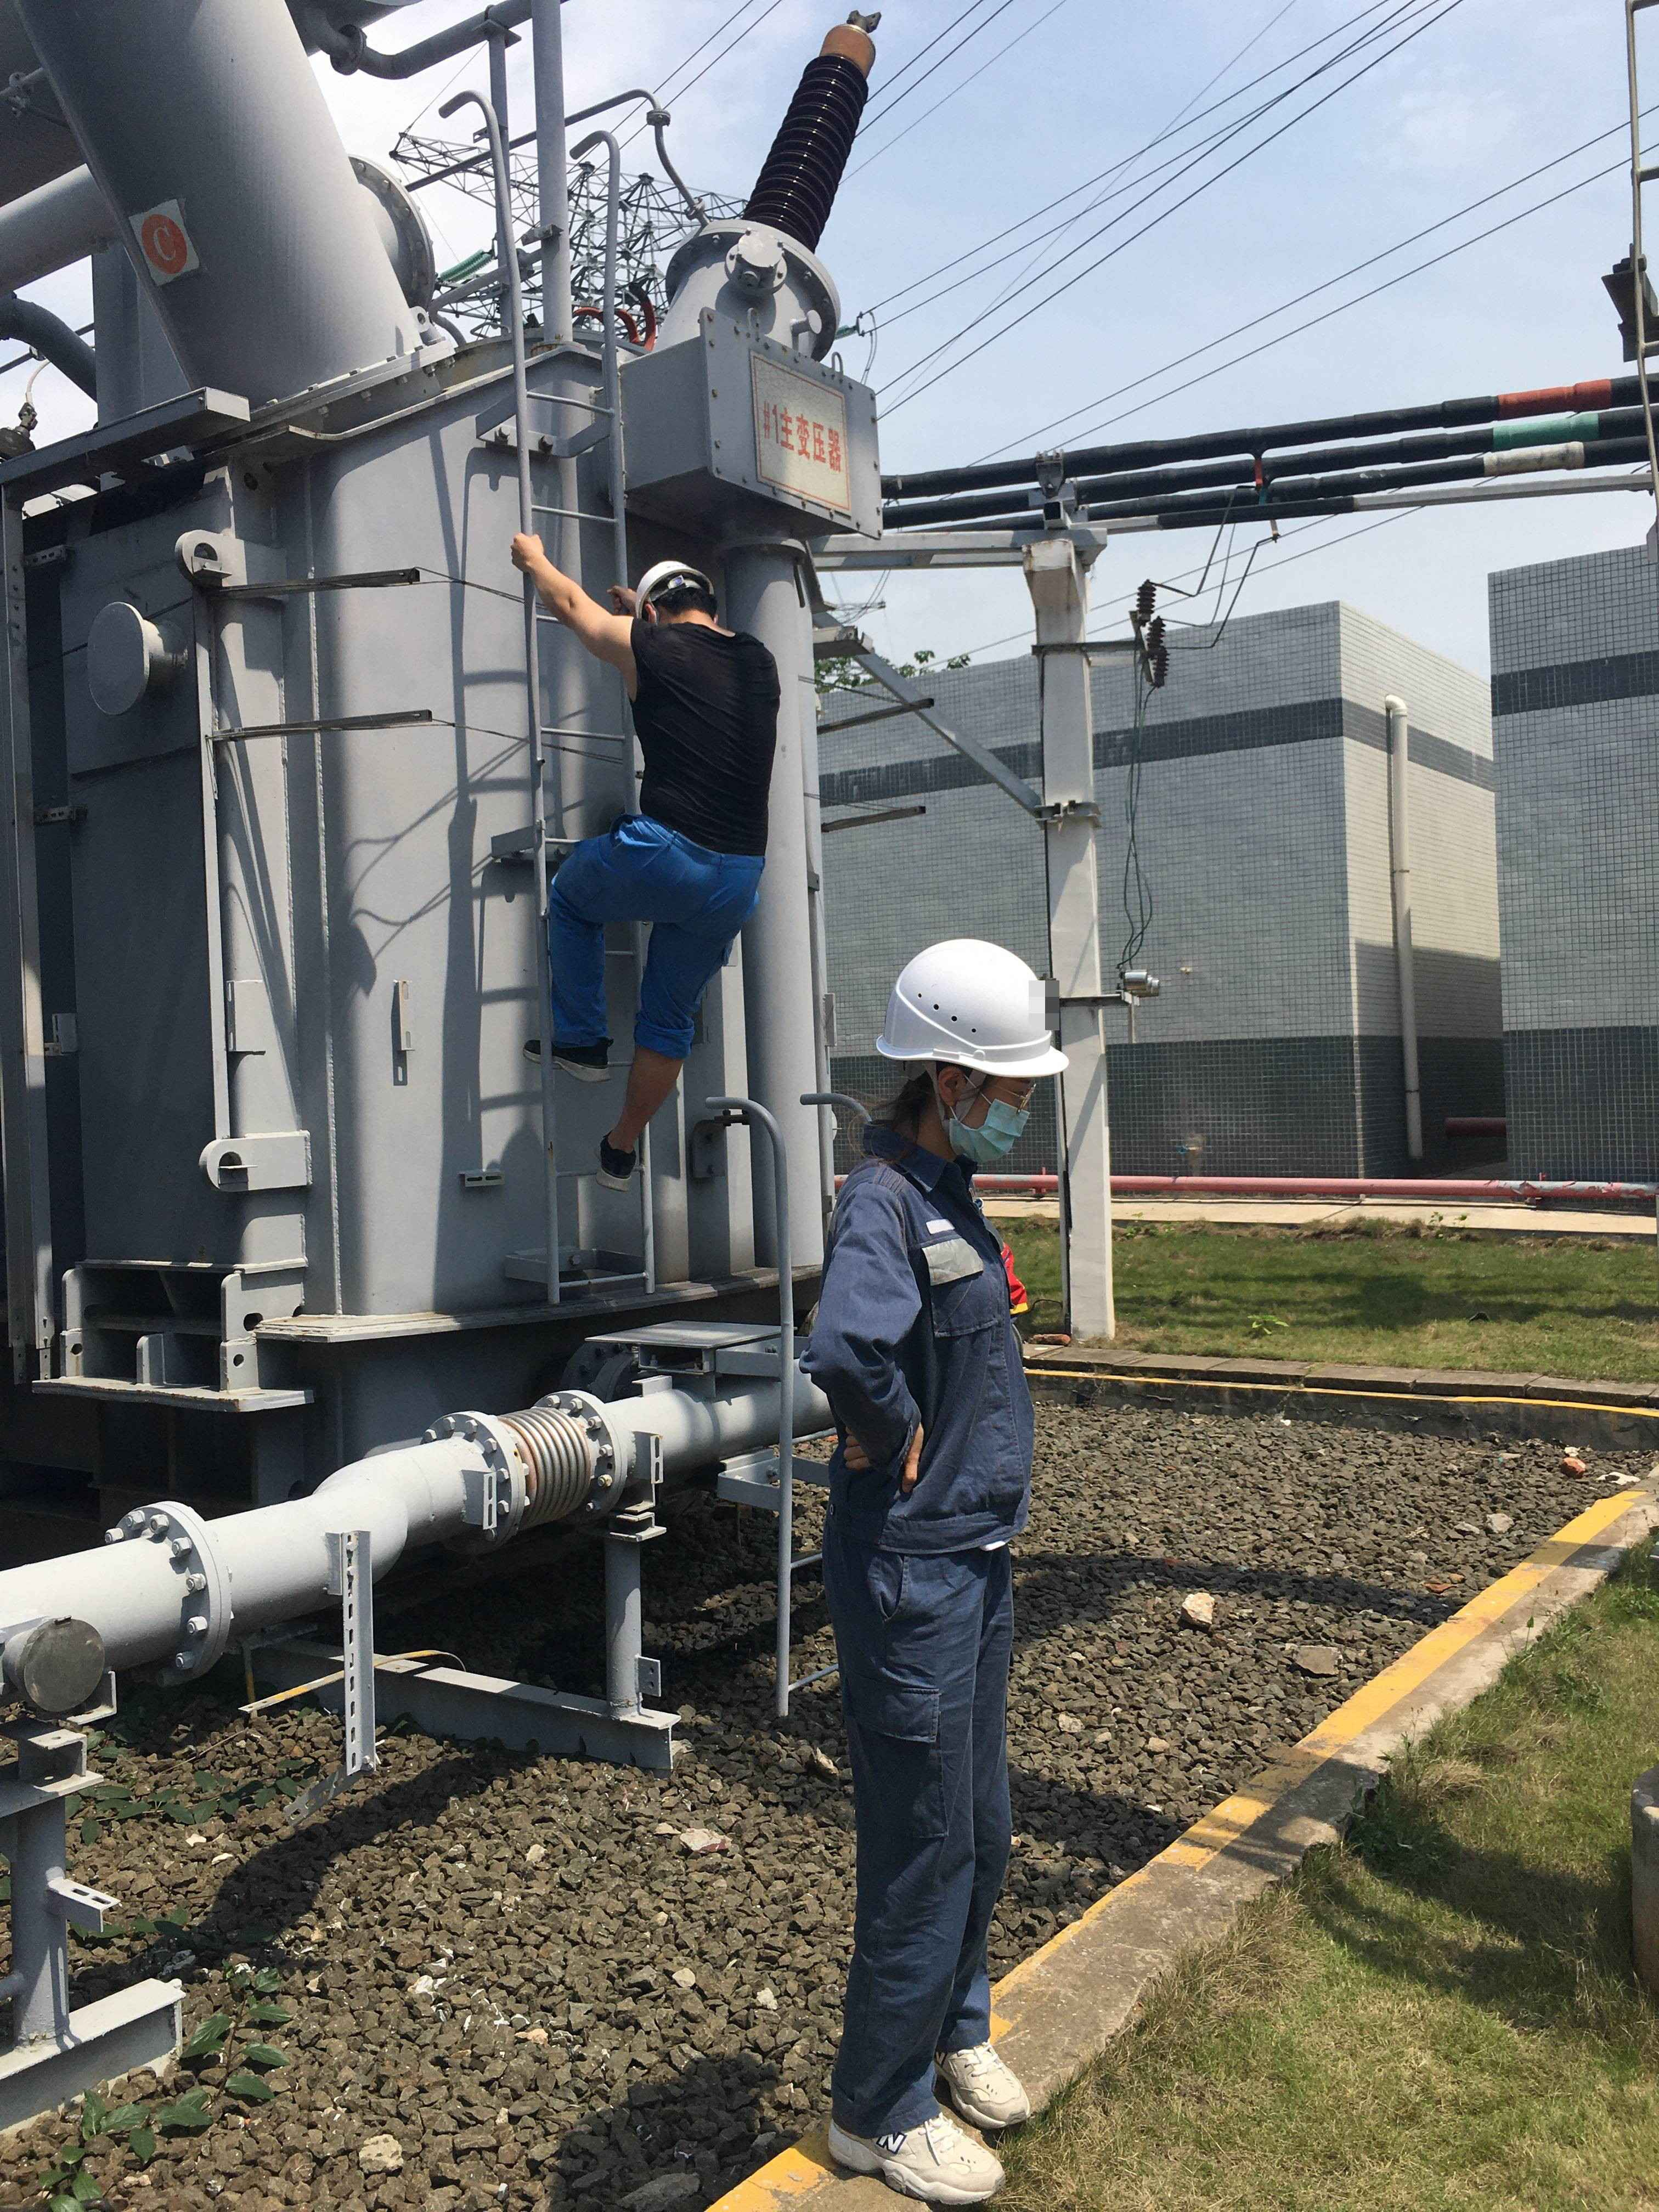downsuit: (823, 1564, 1021, 2127), (545, 820, 769, 1068)
upcloth: (617, 611, 788, 857)
upsuit: (809, 1139, 1037, 1554)
wrongbottom: (605, 1021, 695, 1169)
